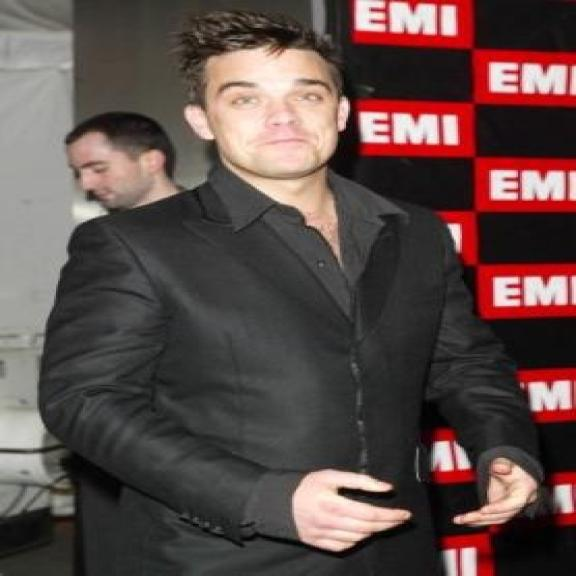face: (185, 44, 354, 182), (67, 127, 176, 214)
